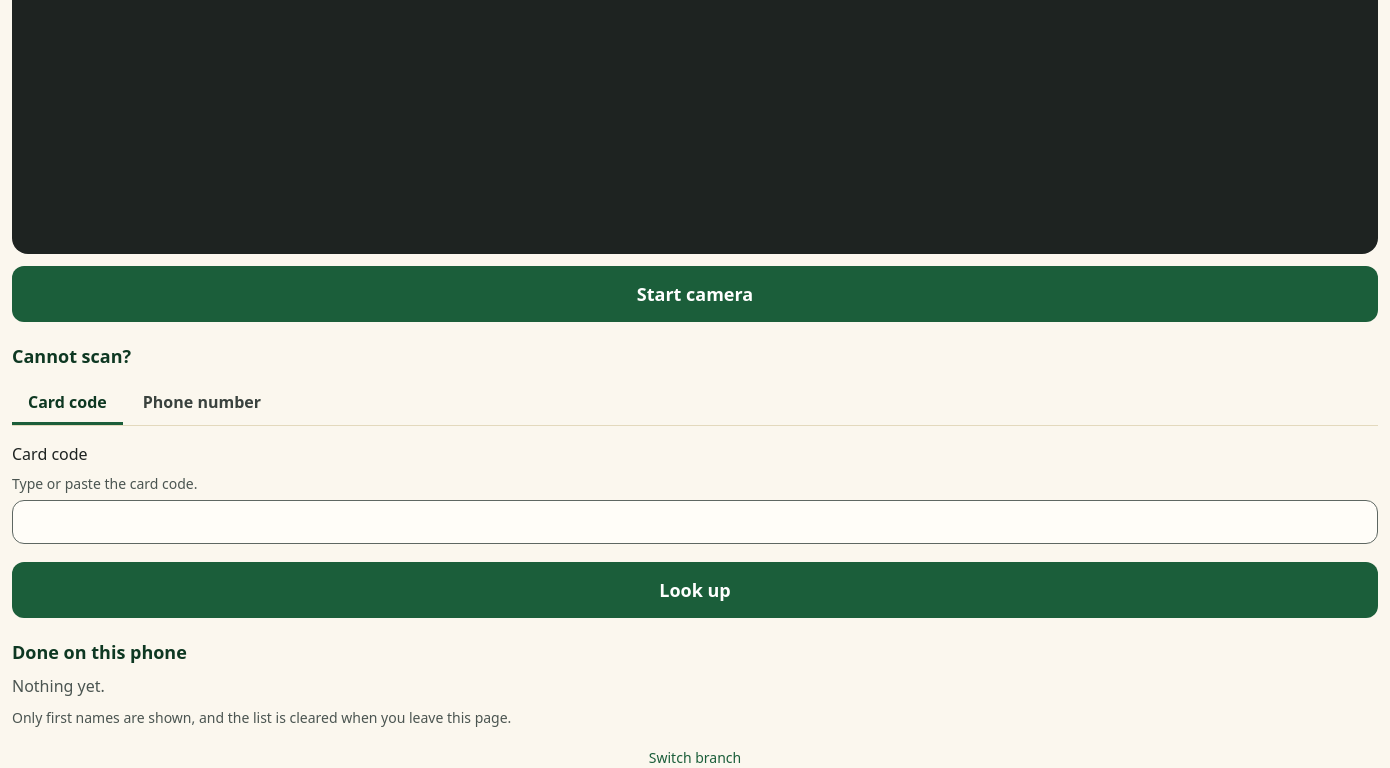
ScannerApp › checks the card with the backend, then waits for confirmation before stamping
(page scrolled)
Type "mock-ok-1-4567" into the field labelled "Card code" at (695, 522), box [12,500,1378,544]
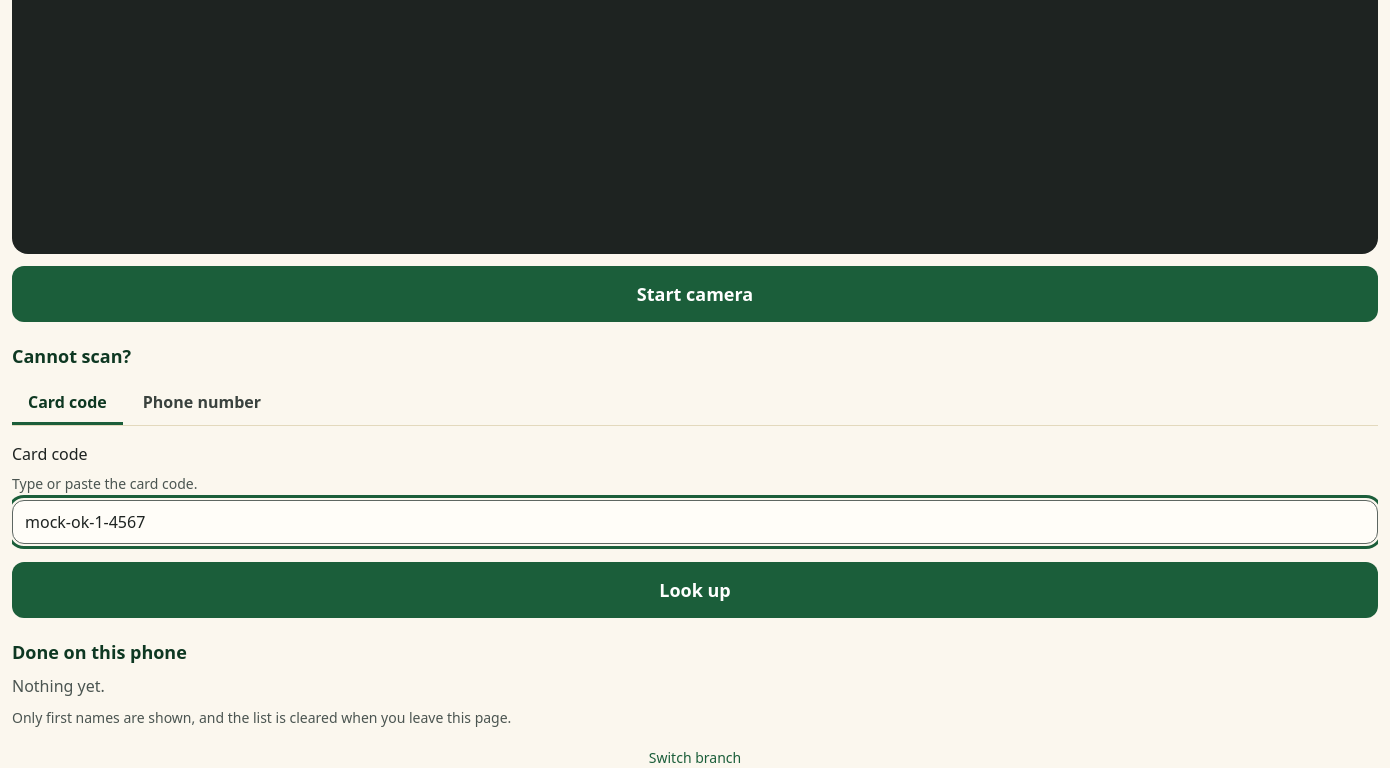
Click the button "Look up" at (695, 590), box [12,562,1378,618]
(page scrolled)
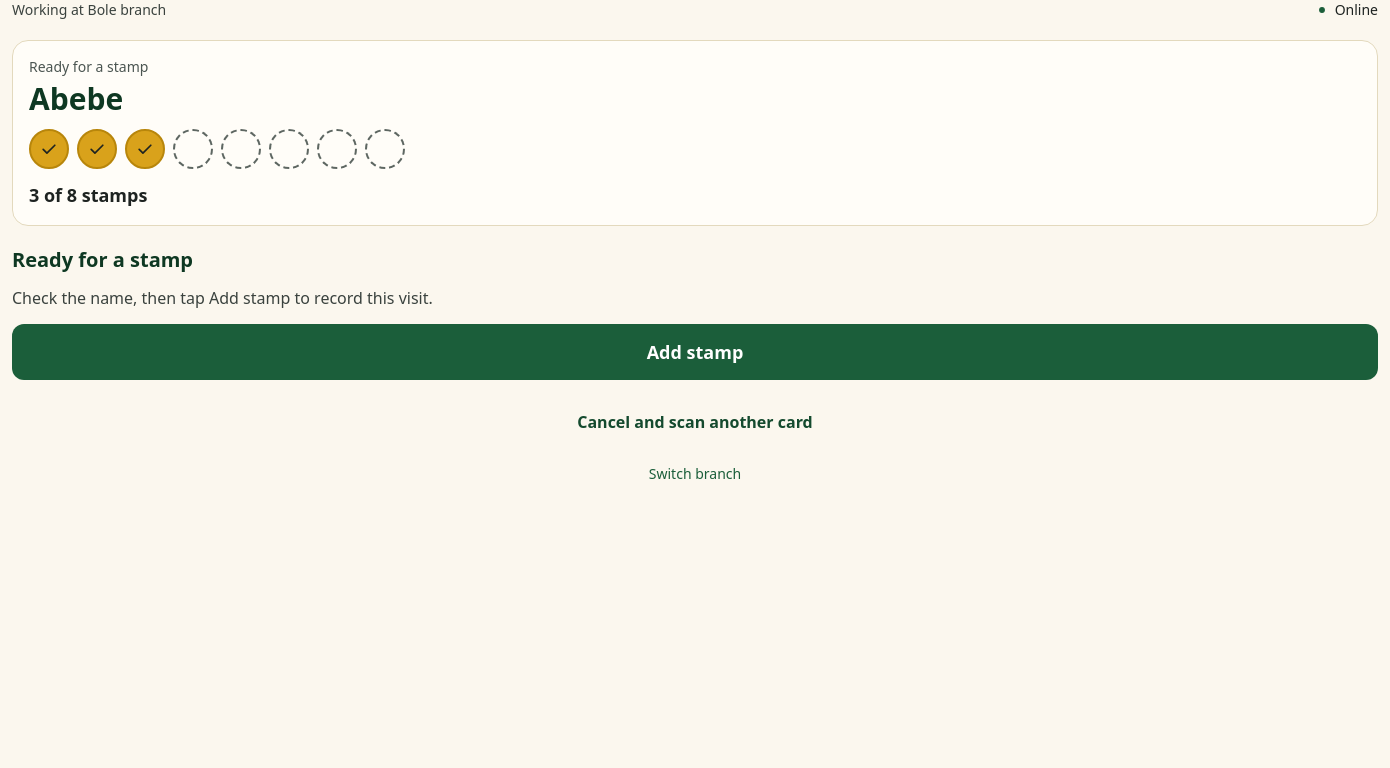
Expected: the element with test id "scan-confirm" is shown, [12,40,1378,444]
Expected: the text with test id "customer-name" reads "Abebe", [29,78,123,119]
Expected: the picture named "3 of 8 stamps" is shown, [29,129,405,169]
